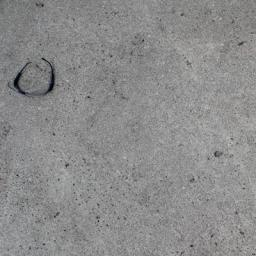FOD: (5, 57, 61, 99)
